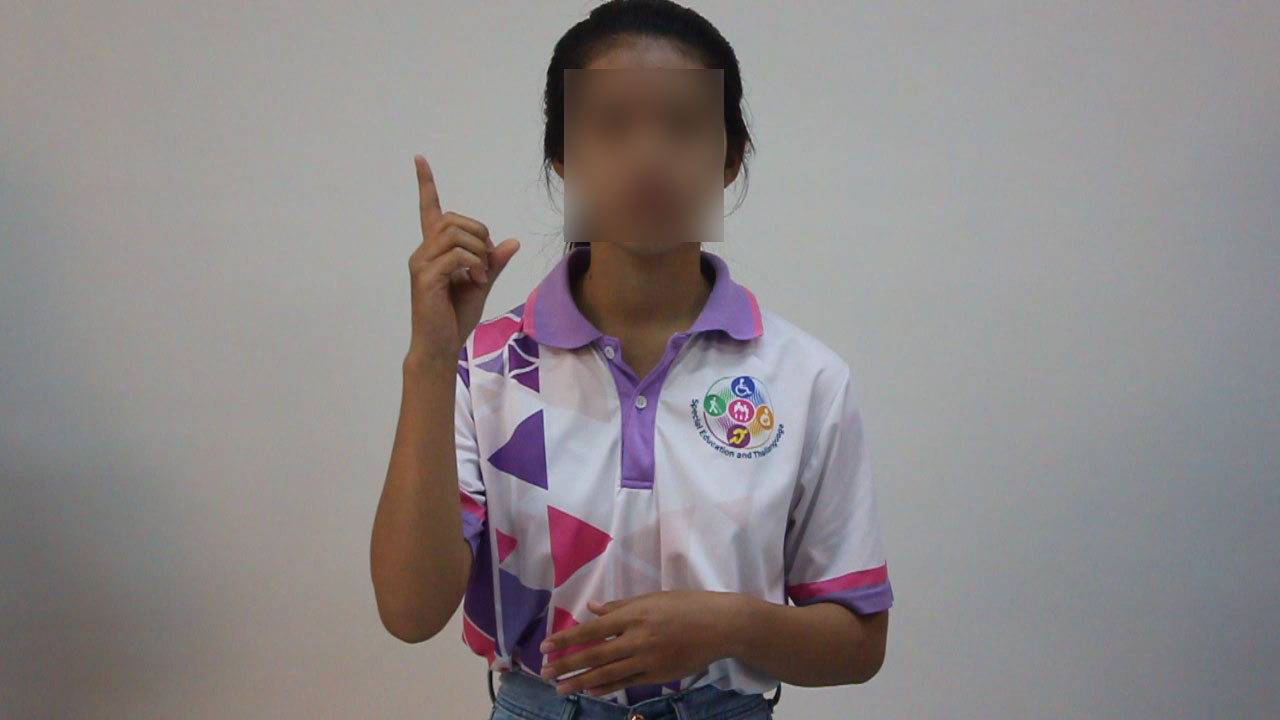dor: (396, 146, 528, 366)
